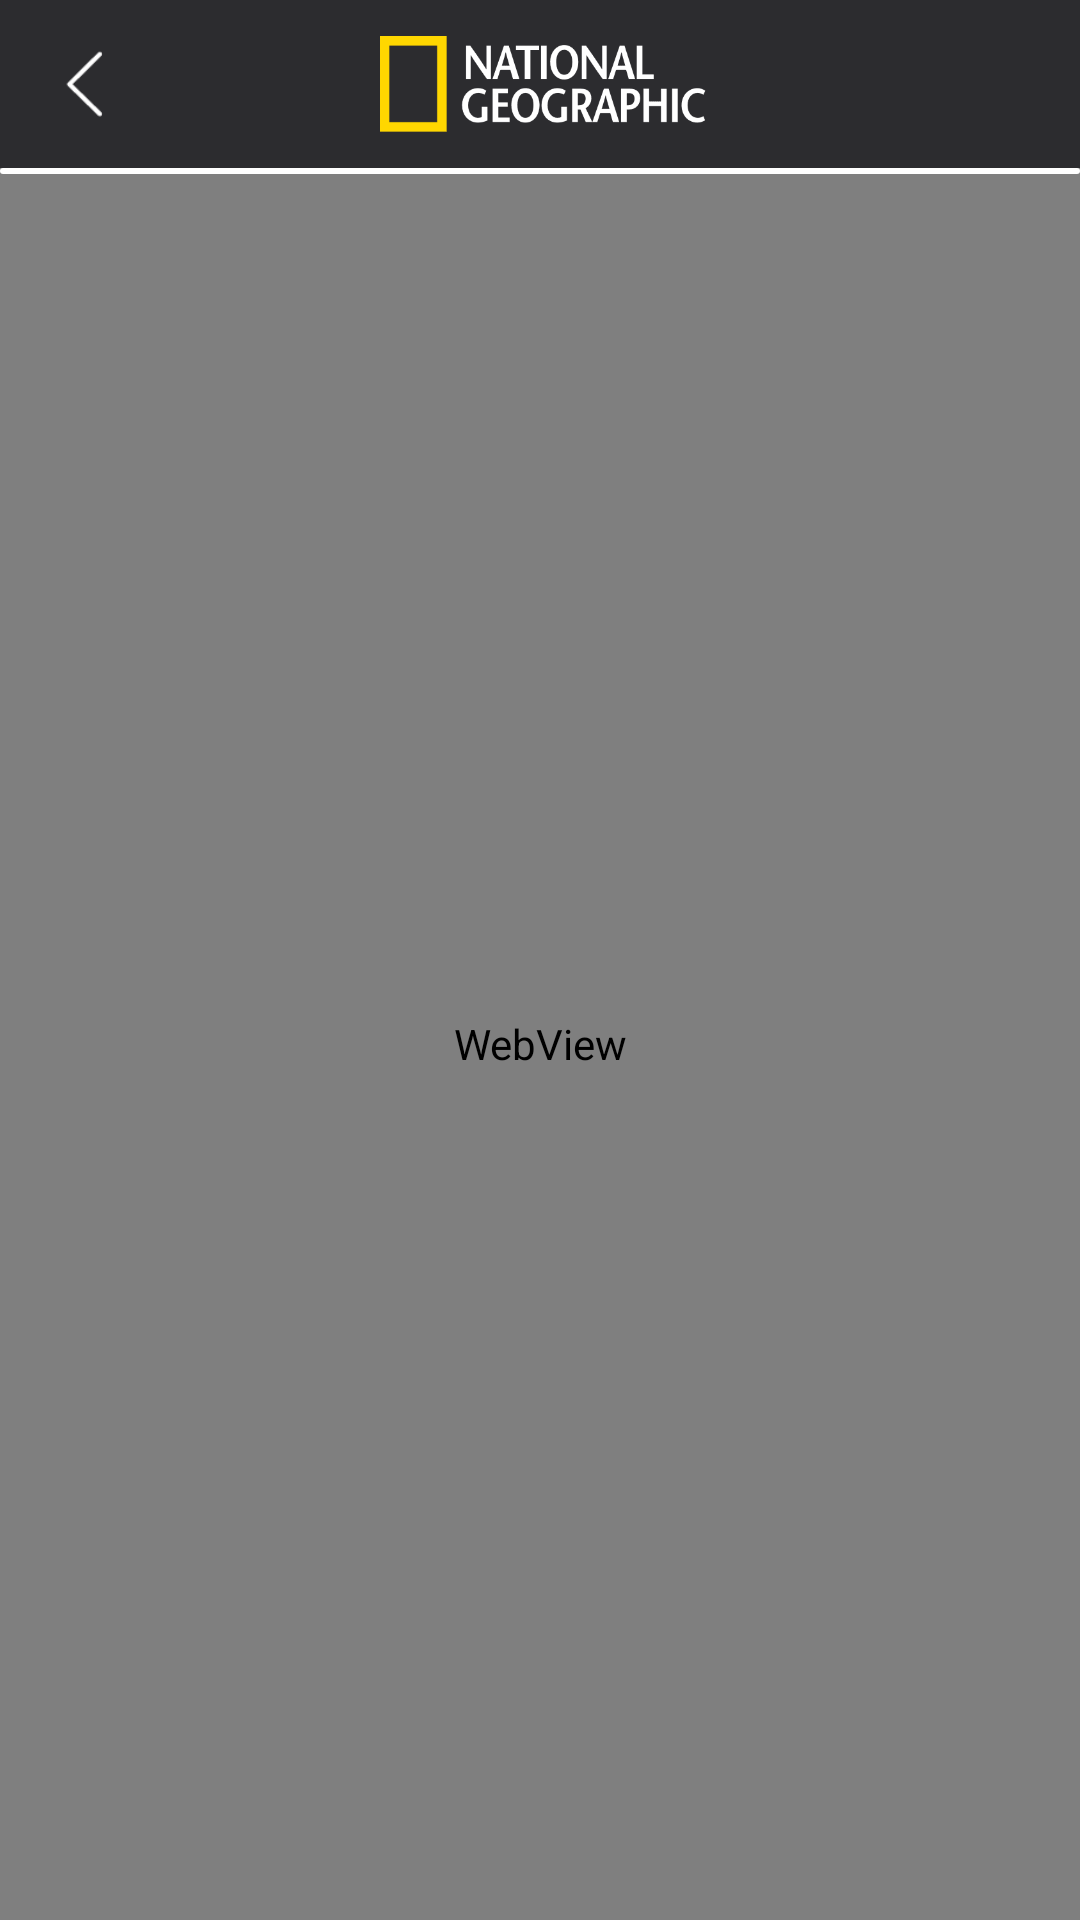

Where icons sit on this 1080×1920 app screen, as (x1, y1, x2, y2):
back: (66, 51, 102, 117)
